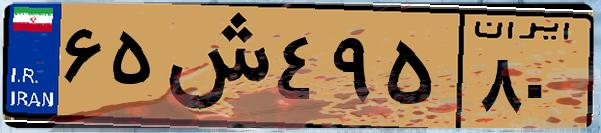0: (525, 38, 570, 115)
4: (270, 28, 330, 110)
5: (385, 28, 445, 110), (110, 28, 158, 98)
6: (57, 26, 110, 100)
8: (475, 38, 525, 113)
9: (330, 28, 385, 110)
ش: (158, 12, 270, 120)
